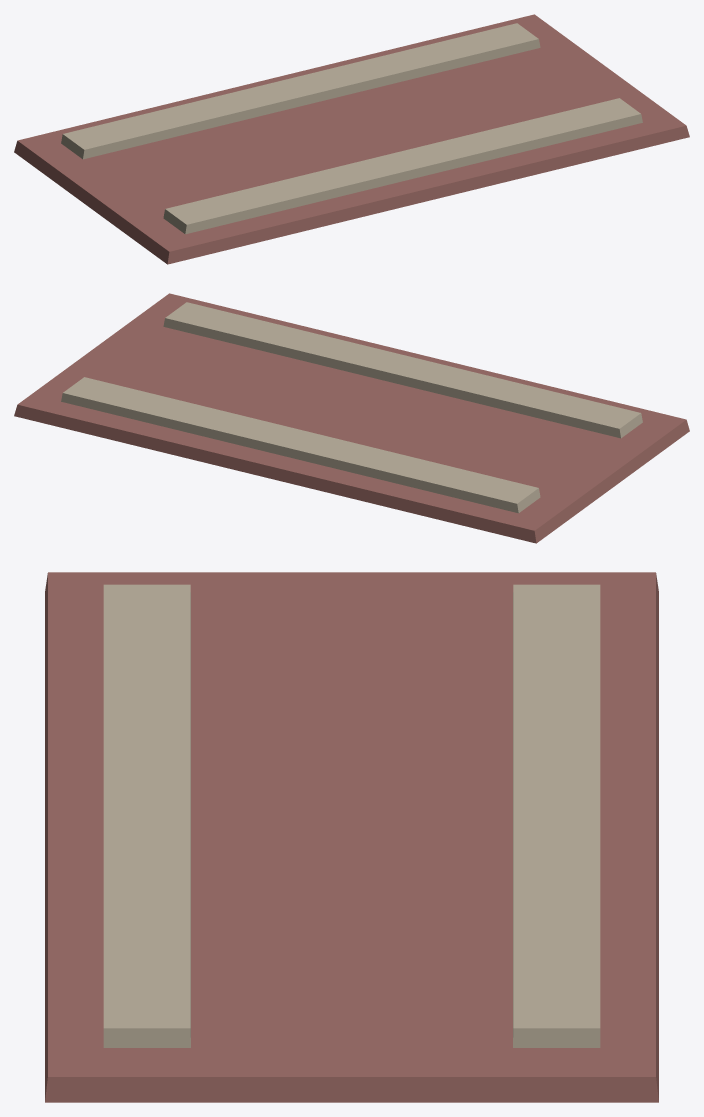
File: rug_woven_small.glb
3 views of the same model, one above another, from view 1: azimuth 30°, elevation 25°; view 2: azimuth 150°, elevation 25°; view 3: azimuth 270°, elevation 25° (orthographic). The views are drawn at different scales.
Parts seen in each view (by area): view 1: part_0, part_1, part_2; view 2: part_0, part_1, part_2; view 3: part_0, part_1, part_2.
Boxes of the visible parts, box(x1,y1,x2,y2) form: part_0: box(14, 14, 689, 264); part_1: box(61, 23, 540, 159); part_2: box(163, 98, 642, 234); part_0: box(14, 293, 689, 543); part_1: box(61, 377, 540, 513); part_2: box(163, 302, 642, 438); part_0: box(45, 572, 658, 1102); part_1: box(513, 584, 600, 1047); part_2: box(103, 584, 190, 1047).
Bounding box in the file's own units: 1.65 × 0.0625 × 0.84.
